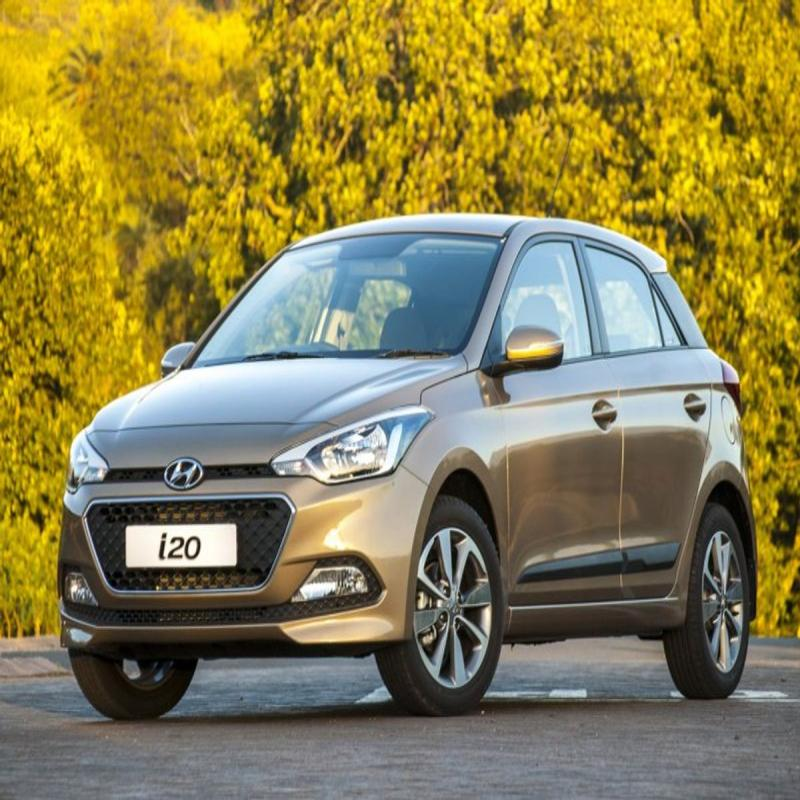car: (53, 172, 760, 728)
